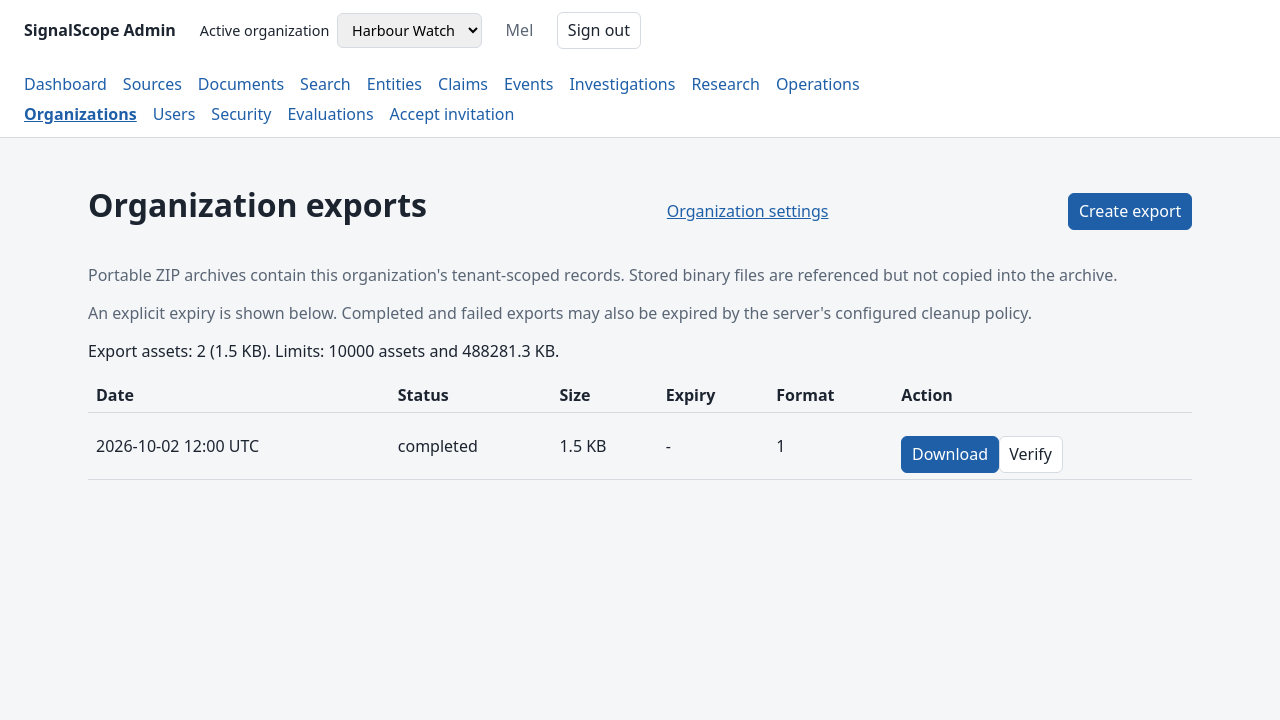
organization exports › lists, creates and downloads tenant exports
Check: the text "1.5 KB" is shown, box [552, 413, 658, 480]
Check: the text "Export assets: 2 (1.5 KB)" is shown, box [88, 340, 559, 362]
Step 1. Click the button "Create export" → (1130, 211), box [1068, 193, 1192, 230]
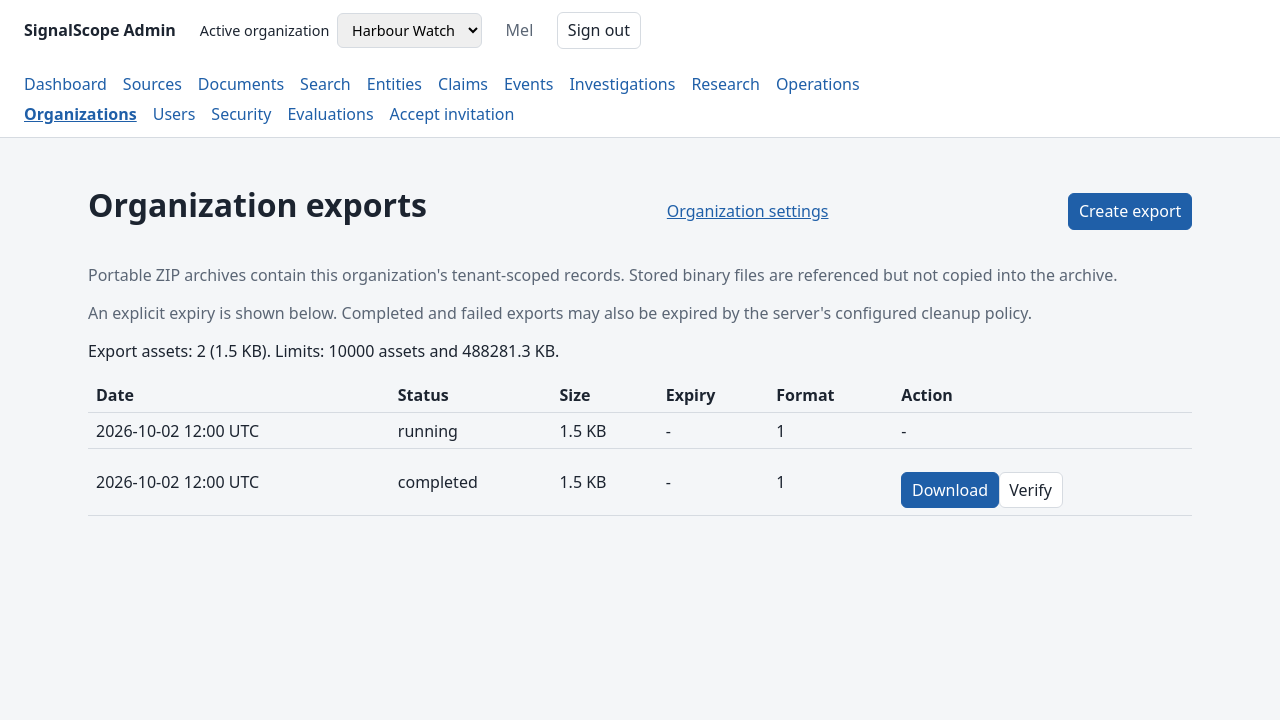
Check: the text "running" is shown, box [390, 413, 552, 449]
Step 2. Click the button "Download" → (950, 490), box [901, 472, 999, 508]
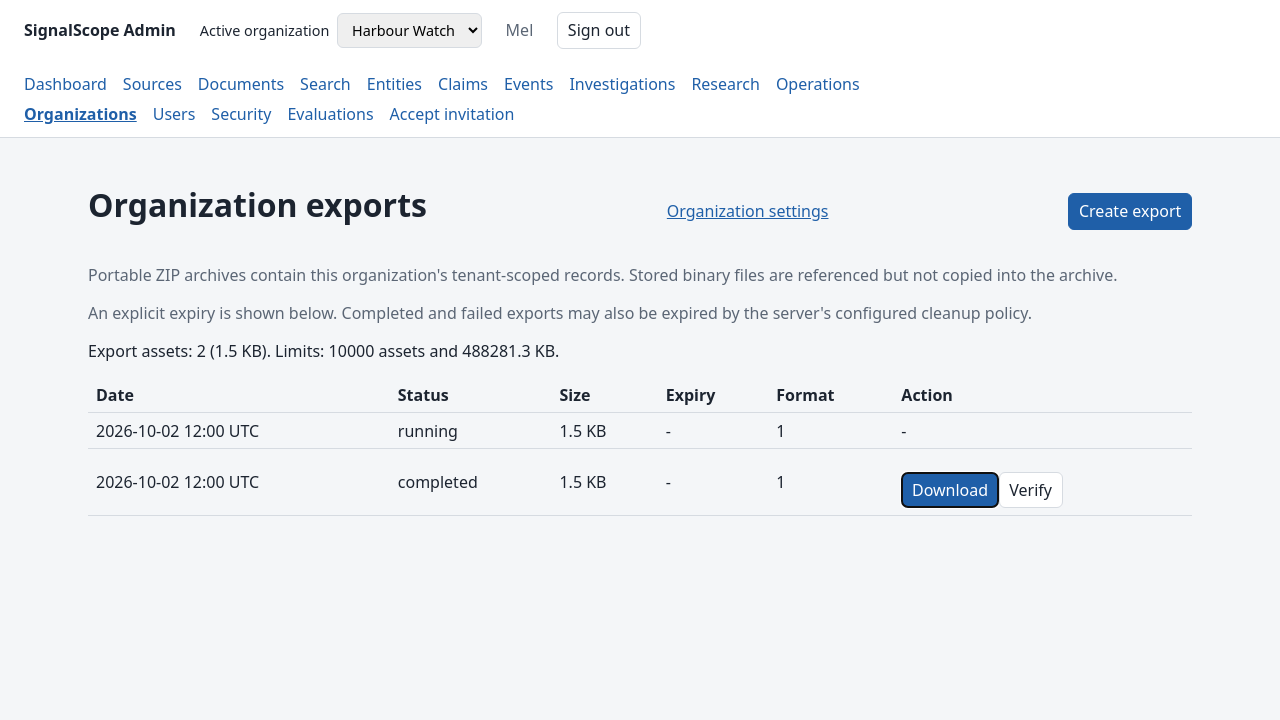
Step 3. Click the button "Verify" → (1031, 490), box [999, 472, 1063, 508]
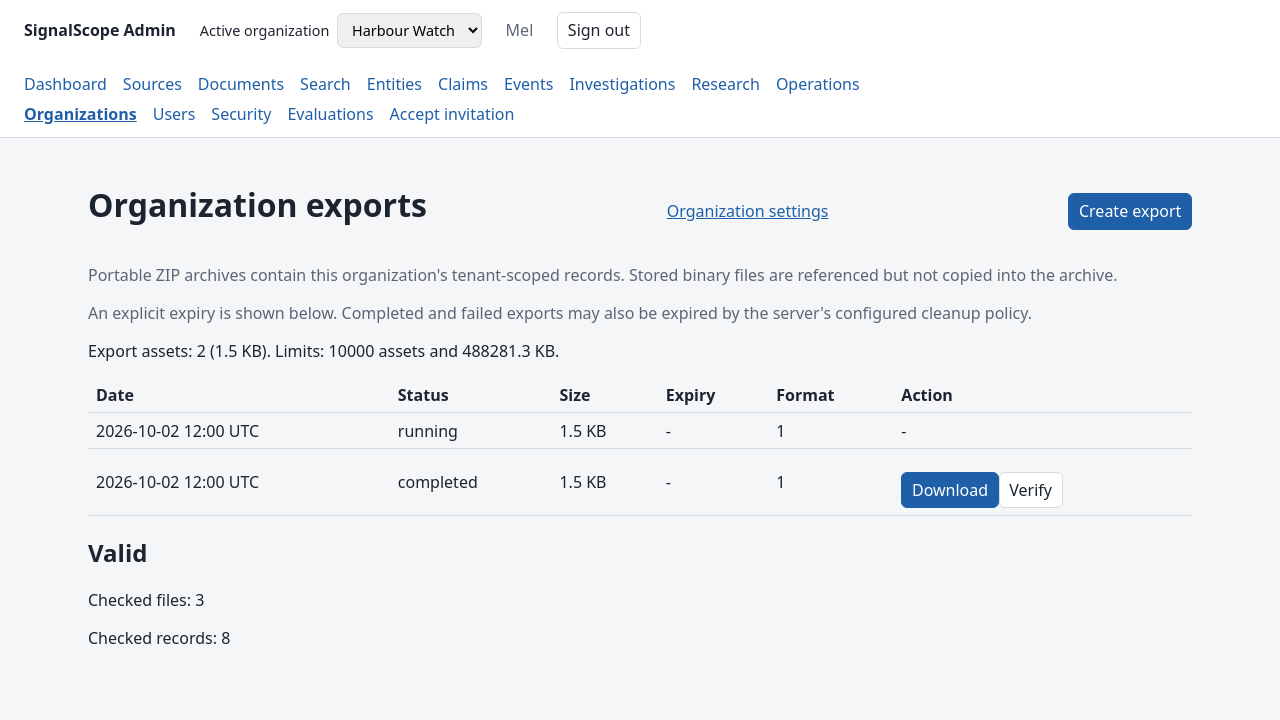
Check: the heading "Valid" is shown, box [88, 536, 148, 569]
Check: the text "Checked files: 3" is shown, box [88, 589, 204, 611]
Check: the text "Checked records: 8" is shown, box [88, 627, 230, 649]
